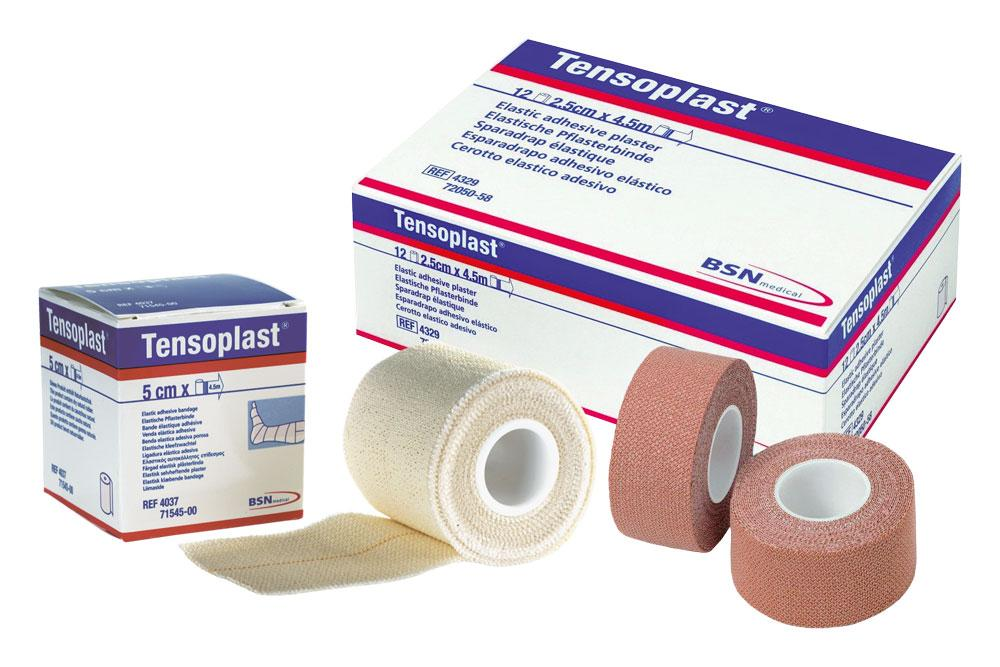bandage: (183, 336, 595, 608), (727, 427, 920, 627), (606, 339, 760, 555)
